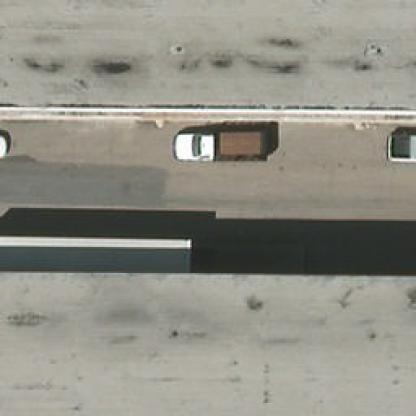car: (0, 133, 8, 159)
truck: (170, 133, 268, 164)
